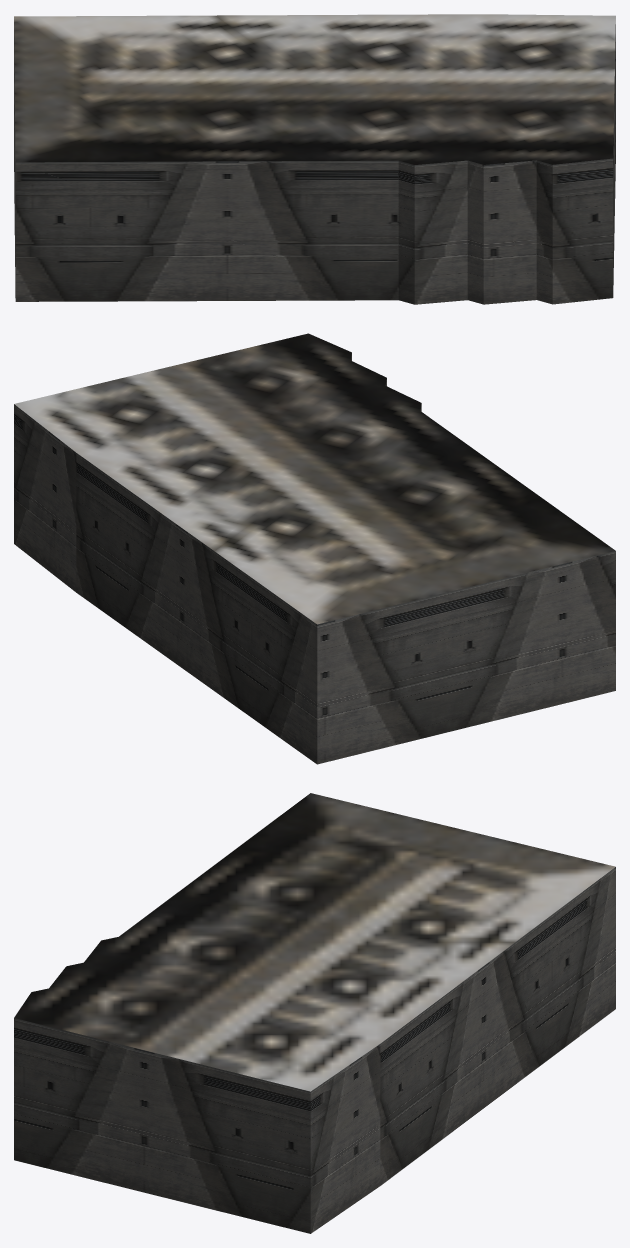
The model's file is fortress_hard_04.glb.
The picture shows the model from 3 angles, top to bottom: view 1: azimuth 30°, elevation 25°; view 2: azimuth 150°, elevation 25°; view 3: azimuth 270°, elevation 25°; orthographic projection.
Visible parts, largest first — view 1: buildings/saxarba/fortress_hard/fortress_hard_04; view 2: buildings/saxarba/fortress_hard/fortress_hard_04; view 3: buildings/saxarba/fortress_hard/fortress_hard_04.
Part boxes in pixels (x1,y1,x2,y2): buildings/saxarba/fortress_hard/fortress_hard_04: (14, 14, 615, 304); buildings/saxarba/fortress_hard/fortress_hard_04: (14, 333, 615, 764); buildings/saxarba/fortress_hard/fortress_hard_04: (14, 793, 615, 1233).
Size of the model in its own units: 81 by 18 by 69.
